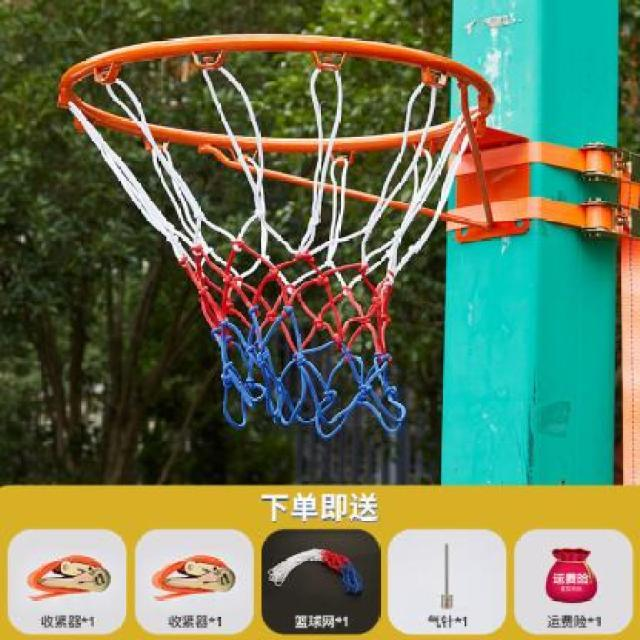rim: (57, 34, 496, 433)
